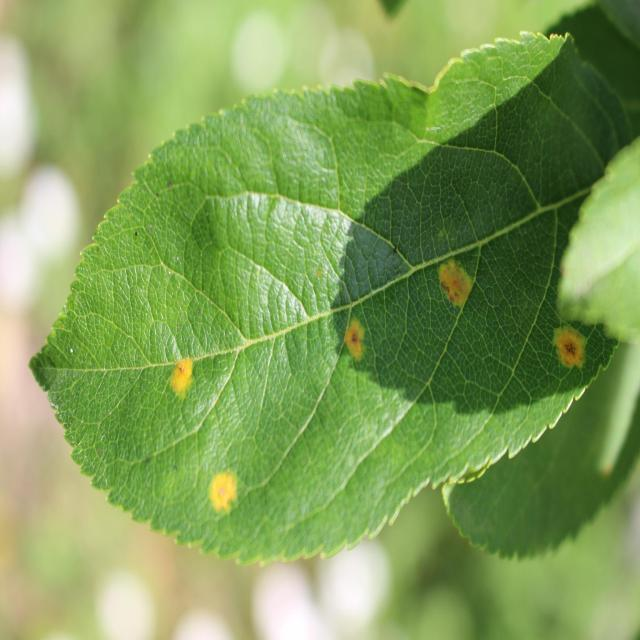Rust: (548, 305, 602, 407), (433, 250, 483, 338), (329, 298, 373, 376), (166, 349, 197, 412), (203, 472, 245, 518)
scab: (100, 161, 192, 255), (106, 441, 190, 494), (19, 343, 60, 399)
